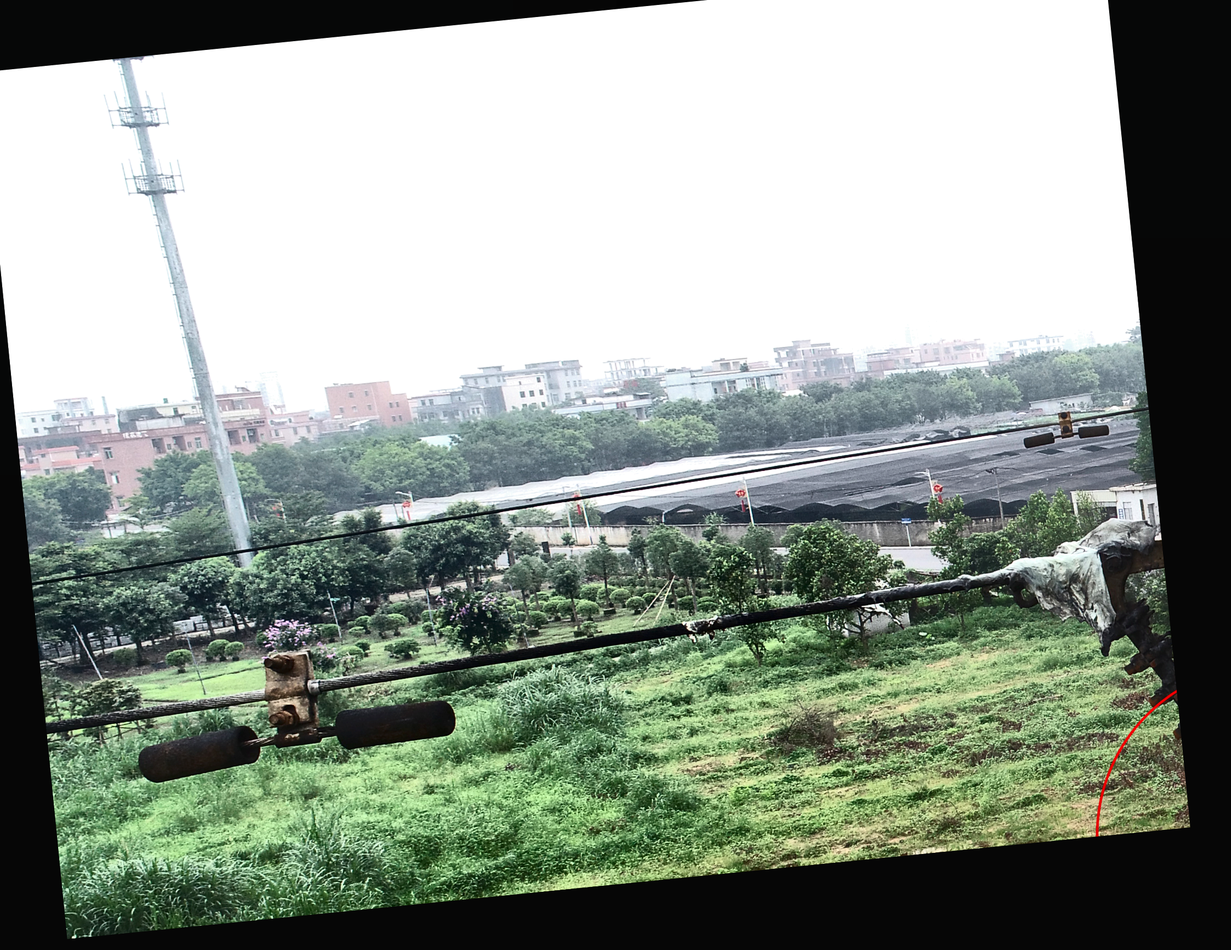damper: (133, 643, 459, 789), (1021, 408, 1112, 452)
